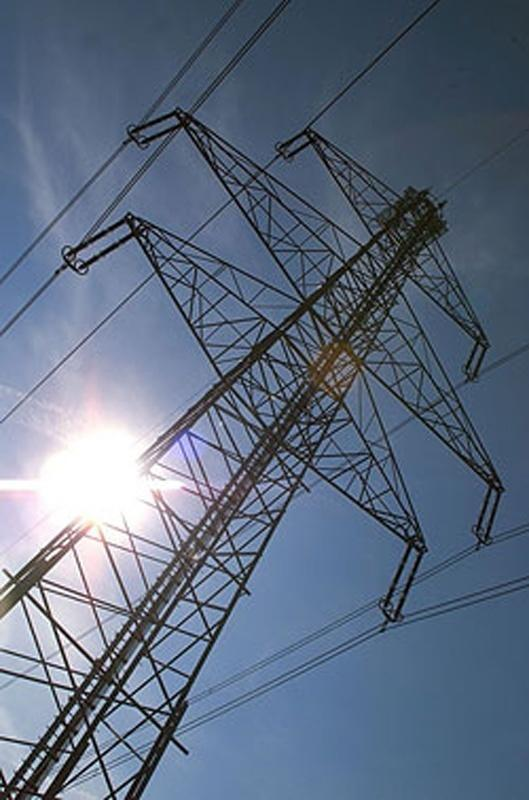power_tower: (2, 105, 505, 798), (61, 214, 145, 274), (378, 540, 430, 624), (468, 483, 510, 546), (124, 110, 188, 150), (458, 338, 494, 384), (275, 124, 316, 164)
